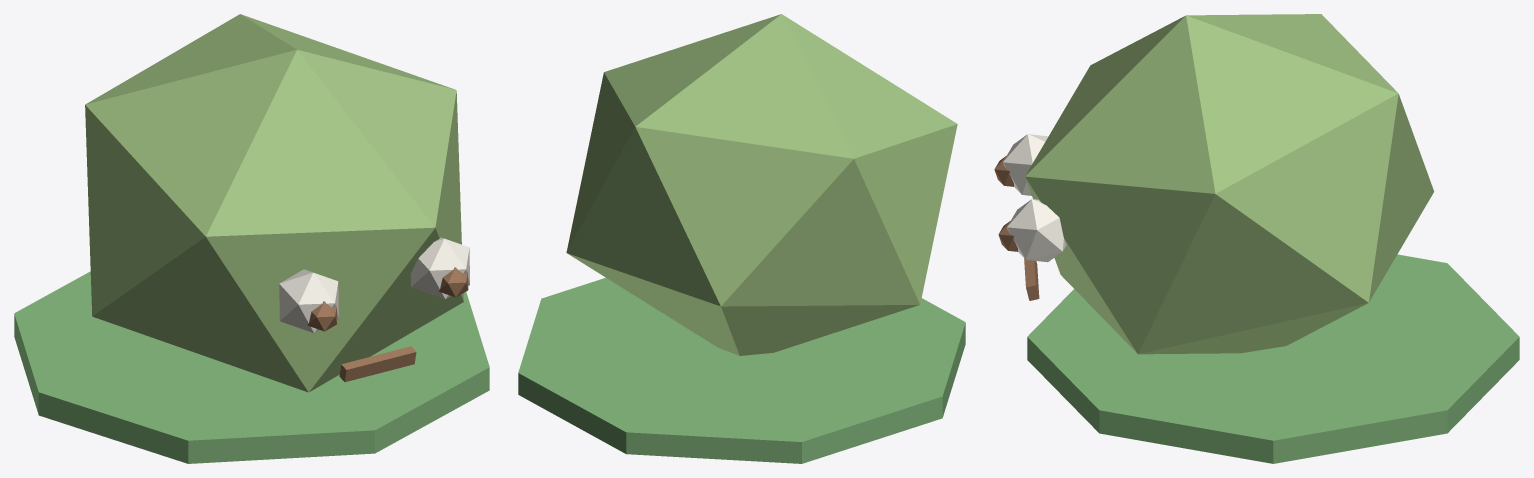
The model's file is npcpose_slime_attack_10.glb.
The picture shows the model from 3 angles, left to right: view 1: azimuth 30°, elevation 25°; view 2: azimuth 150°, elevation 25°; view 3: azimuth 270°, elevation 25°; orthographic projection. The views are drawn at different scales.
Parts seen in each view (by area): view 1: npcpose; view 2: npcpose; view 3: npcpose.
Boxes of the visible parts, box(x1,y1,x2,y2) form: npcpose: box(14, 14, 489, 463); npcpose: box(518, 14, 965, 463); npcpose: box(994, 14, 1519, 463).
Size of the model in its own units: 0.96 by 0.7431 by 1.02.
